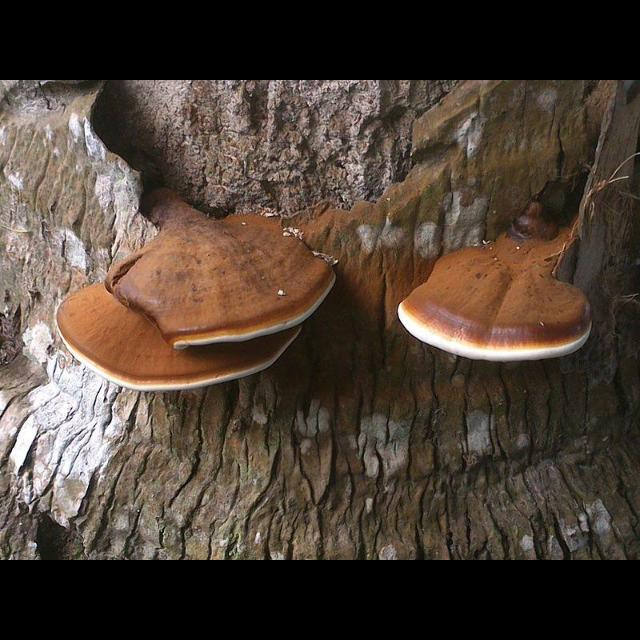ganoderma: (105, 212, 340, 355), (56, 281, 306, 393), (398, 244, 595, 364)
